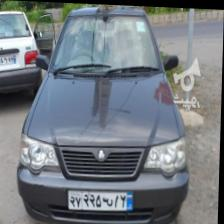plate: (68, 186, 135, 210), (0, 52, 17, 65)
